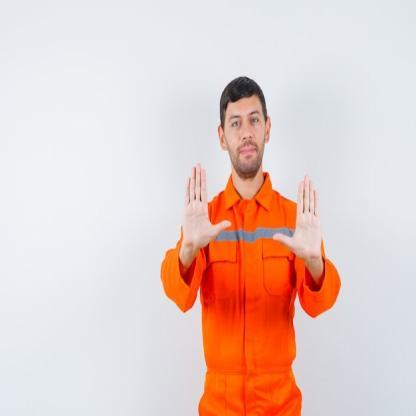stop: (178, 161, 232, 249), (272, 174, 324, 264)
